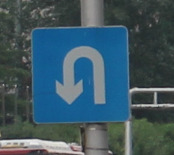u_turn: (30, 25, 130, 124)
